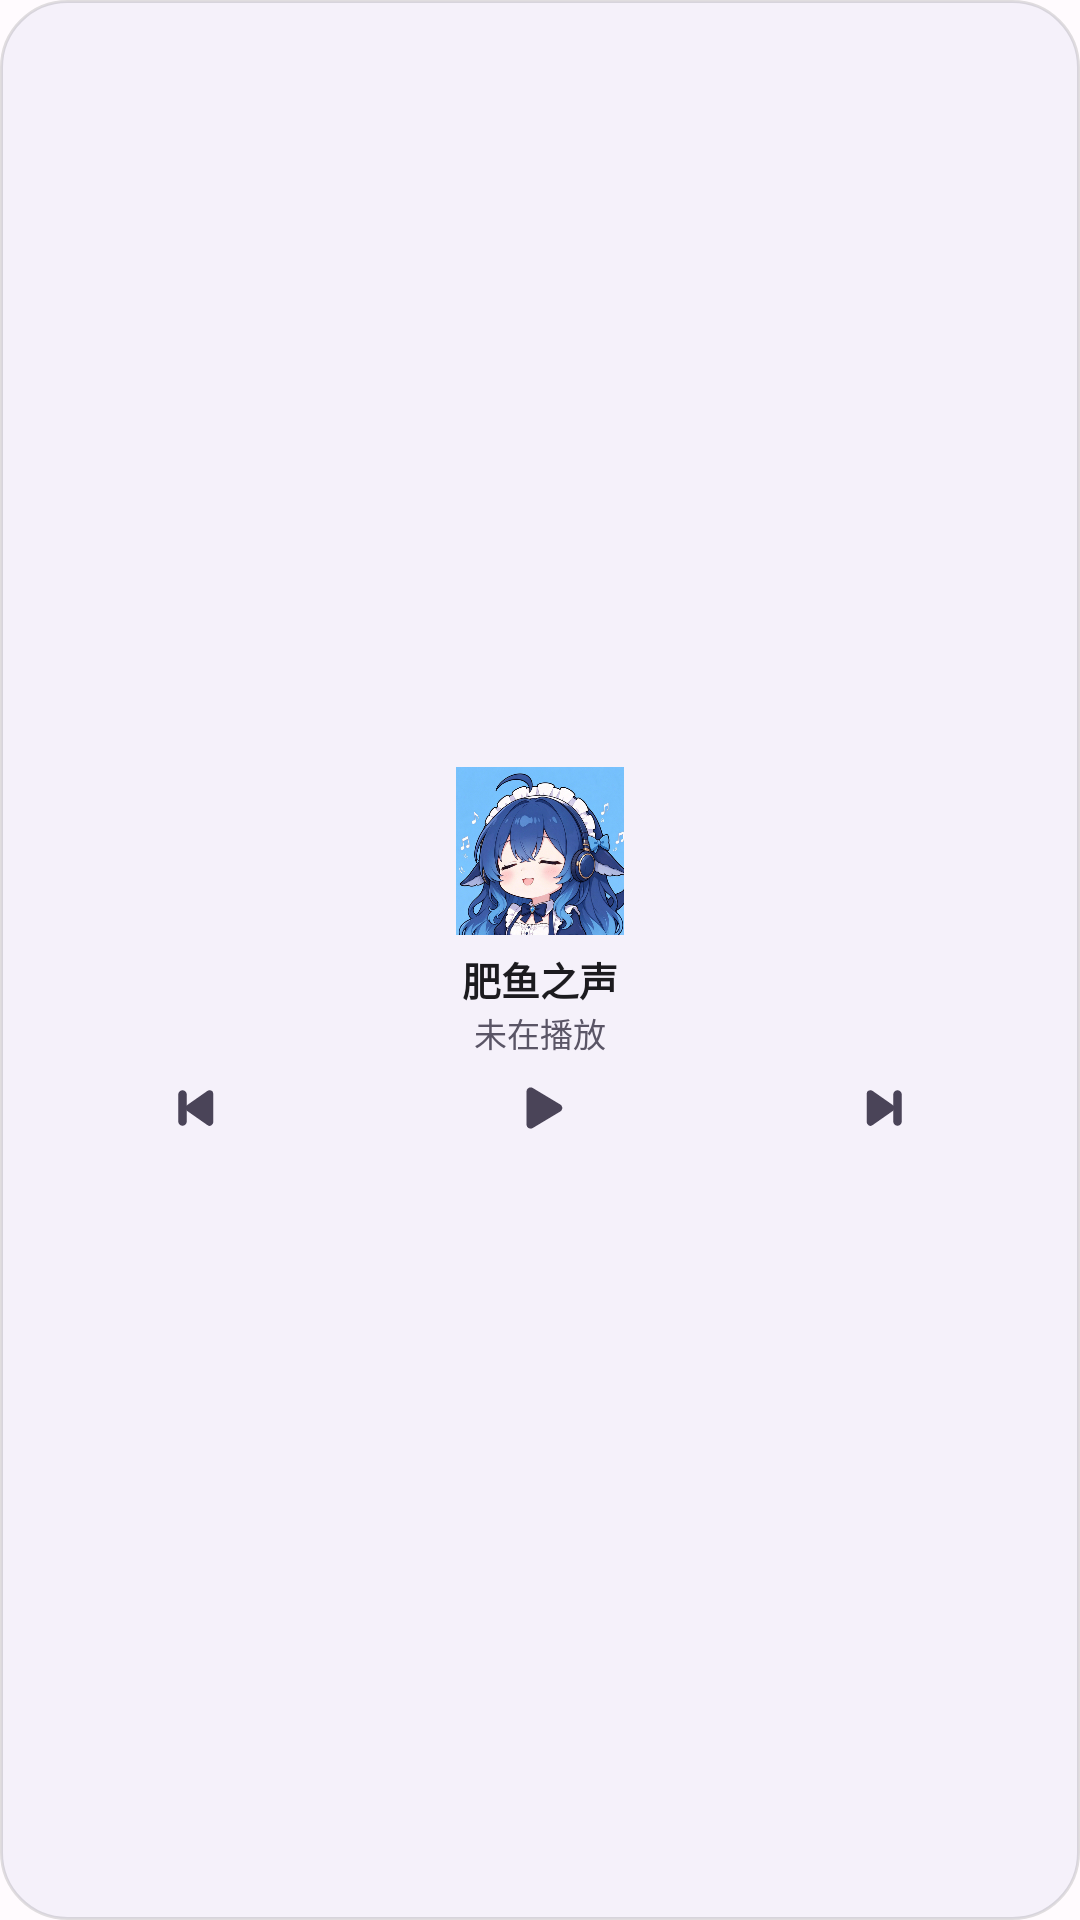

Icons on this 1080px×1920px Android screen, each with its box as (x1, y1, x2, y2):
上一首: (178, 1090, 214, 1126)
下一首: (866, 1090, 902, 1126)
